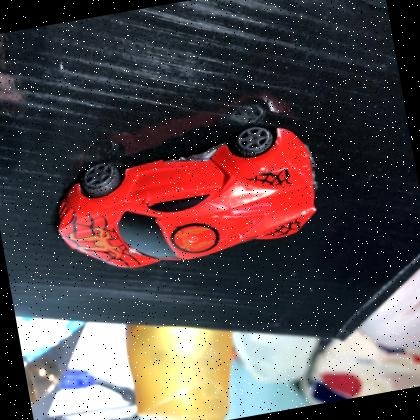Car: (38, 104, 338, 290)
